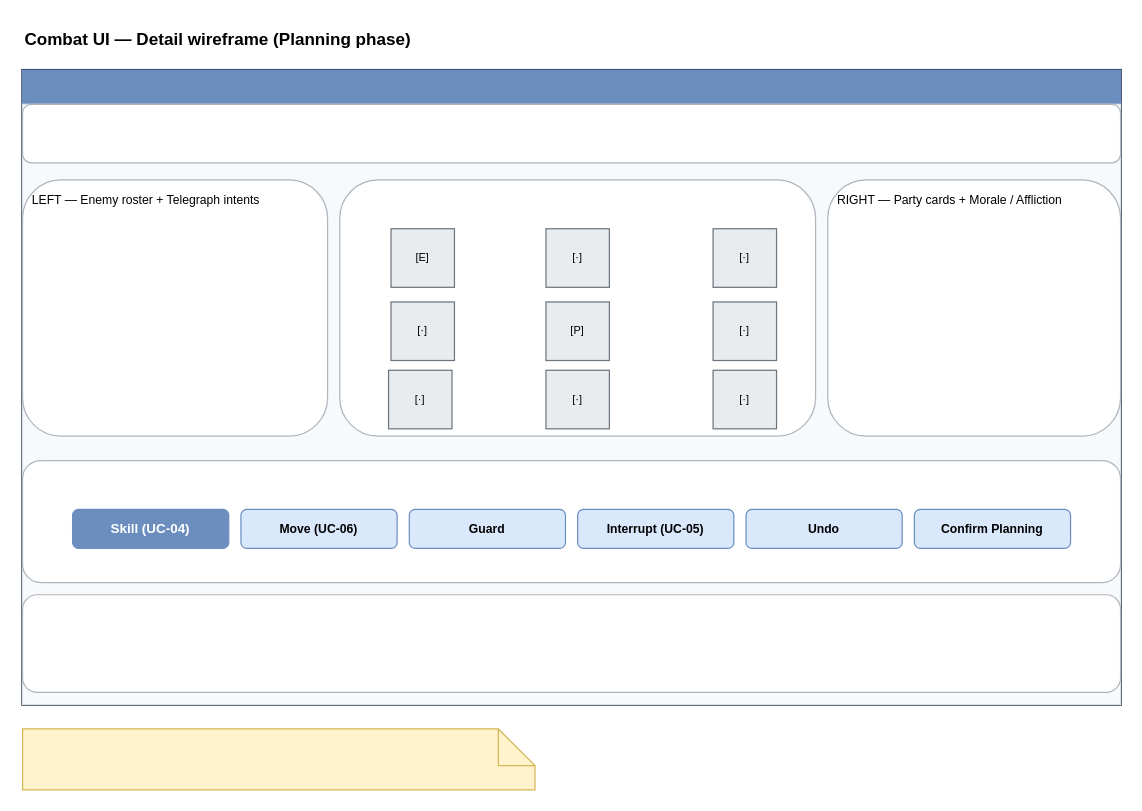
Some shapes in this 1142 by 811 pixel diagram are drawn without their labels. The shapes that lost their labels are listed below. From the top down, each one's box as (x1, y1, x2, y2) in pixels, then its label:
(21, 69, 1121, 104): Combat Scene — View Layer
(21, 103, 1121, 163): TOP — Beat Timeline + Round phase (Planning / Execute / Upkeep)
(339, 179, 816, 436): CENTER — FormationGrid 3×3 (Cover / Flank)
(21, 459, 1121, 583): BOTTOM — Action bar + Delay budget
(21, 594, 1121, 692): FOOTER — Chorus Gauge · Combat log · Retreat
(21, 728, 535, 790): «boundary» CombatHUDView · «control» CombatController · «entity» CombatSession
